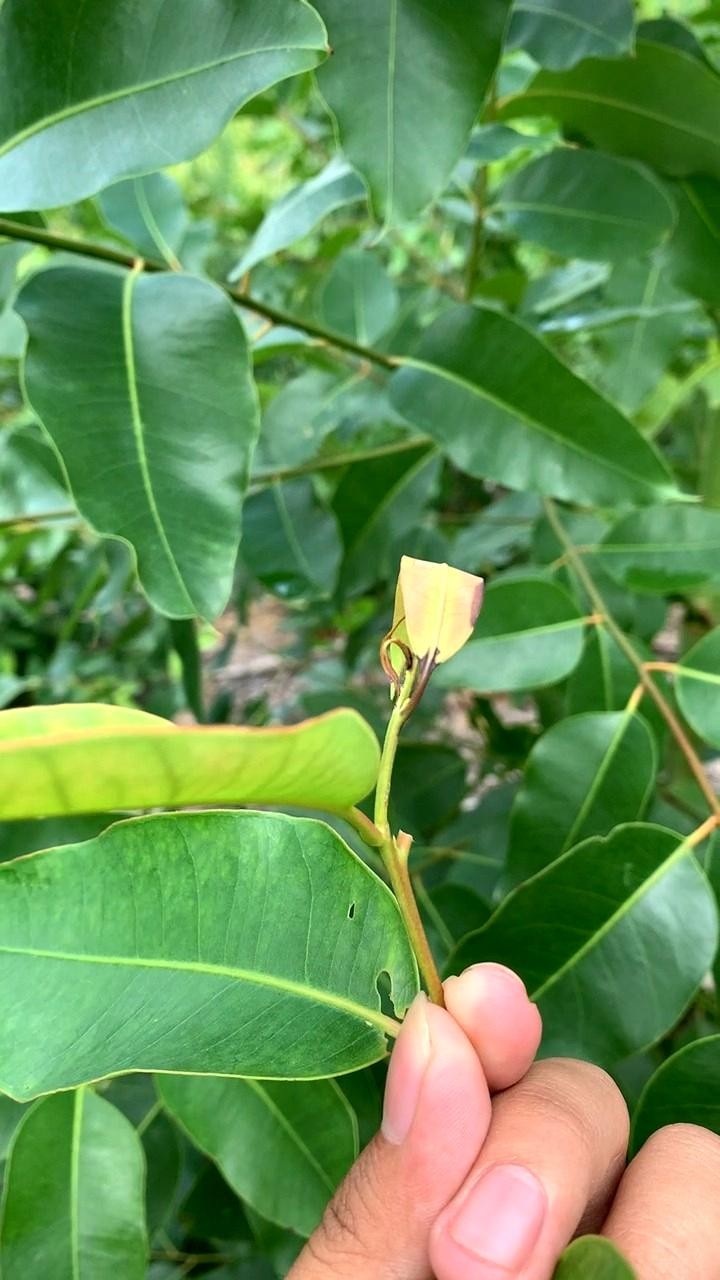Helopeltis-Withered Sprout: (345, 538, 483, 759)
